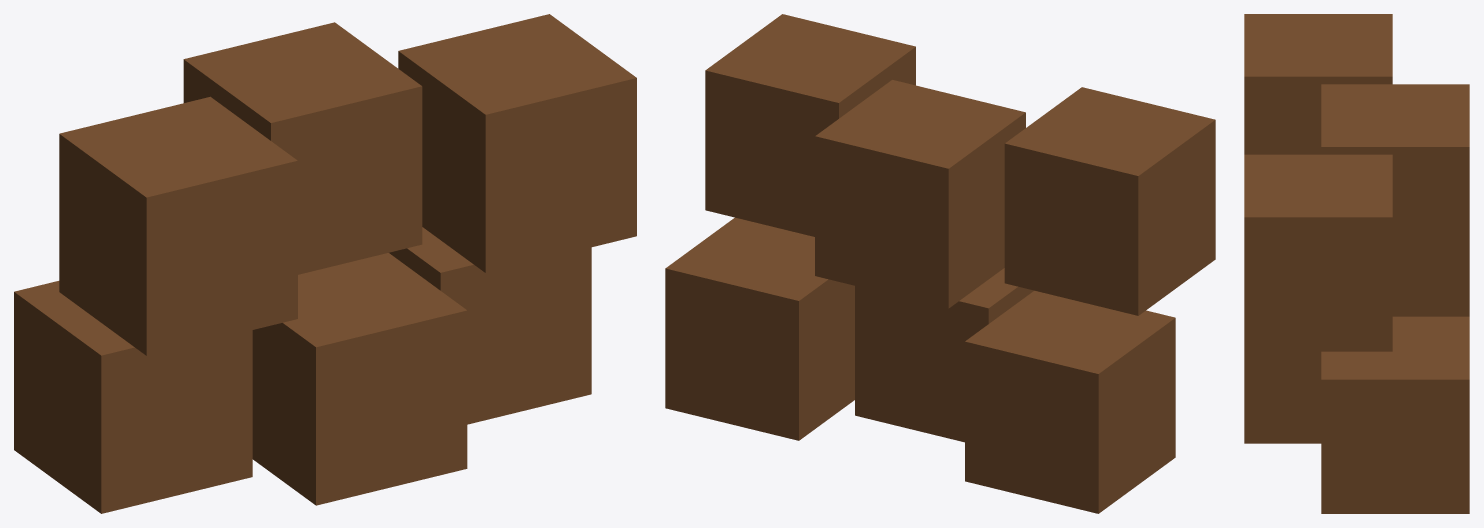
Rendered from SM_AnduinCargoPile.obj.
3 views of the same model, side by side, from view 1: azimuth 30°, elevation 25°; view 2: azimuth 150°, elevation 25°; view 3: azimuth 270°, elevation 25° (orthographic). The views are drawn at different scales.
Visible parts, largest first — view 1: SM_AnduinCargoPile; view 2: SM_AnduinCargoPile; view 3: SM_AnduinCargoPile.
Part boxes in pixels (left/top/right/bottom): SM_AnduinCargoPile: left=14, top=14, right=636, bottom=513; SM_AnduinCargoPile: left=665, top=14, right=1215, bottom=513; SM_AnduinCargoPile: left=1244, top=14, right=1469, bottom=513.
Size of the model in its own units: 188 by 128 by 88.
